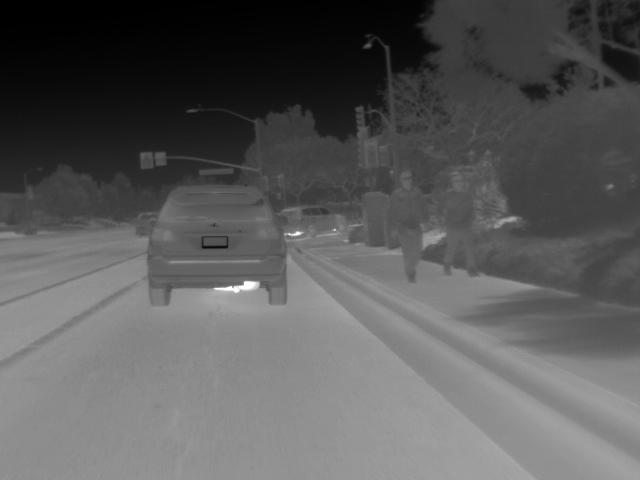car: (145, 182, 289, 306), (280, 204, 351, 239), (134, 210, 162, 239)
person: (437, 168, 484, 278), (387, 169, 430, 285)
